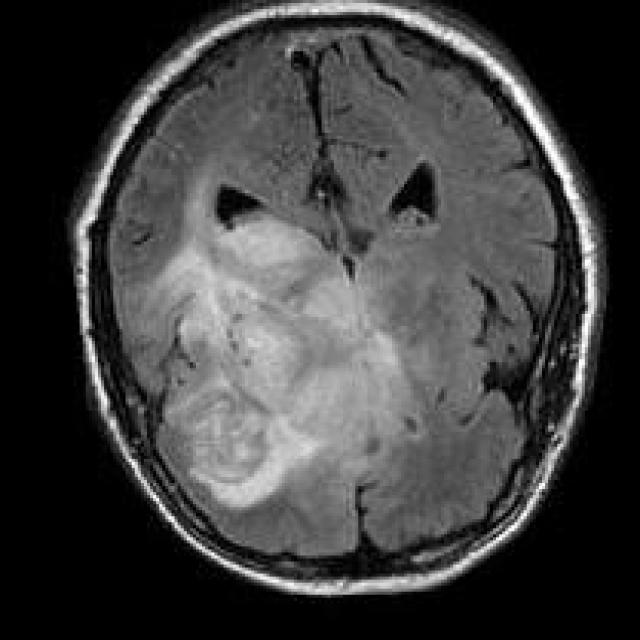Tumor-Cell: (165, 197, 412, 501)
